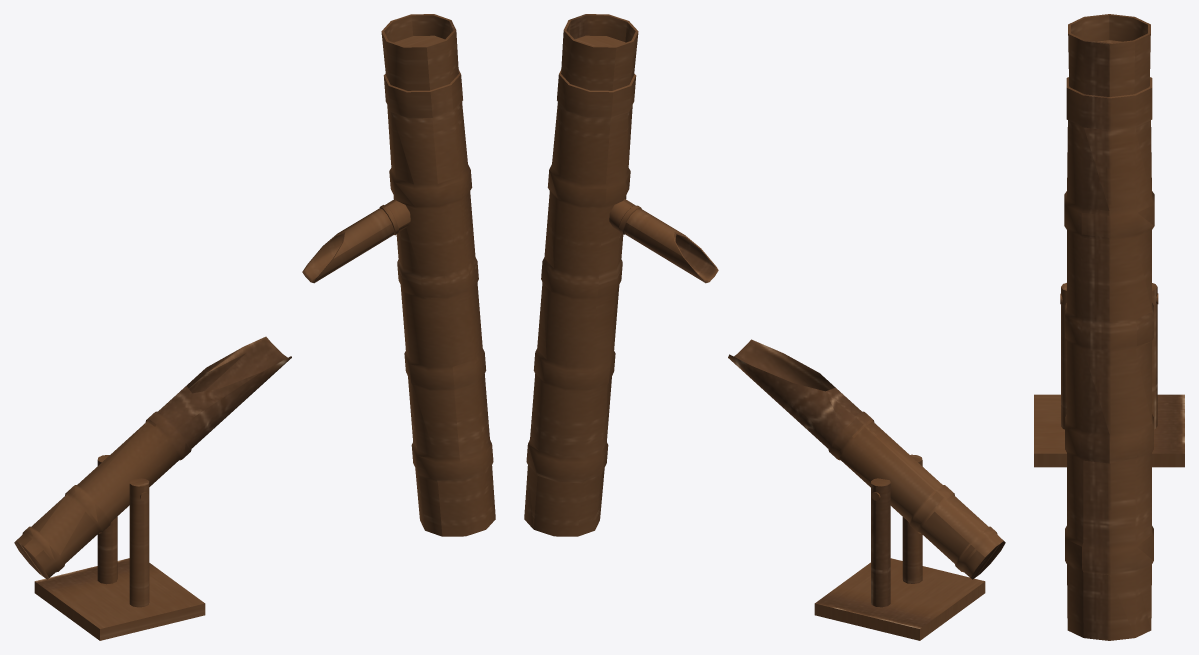
File: shishi_odoshi.glb
3 renders of one model, left to right at view 1: azimuth 30°, elevation 25°; view 2: azimuth 150°, elevation 25°; view 3: azimuth 270°, elevation 25°, orthographic. The views are drawn at different scales.
Visible parts, largest first — view 1: mesh; view 2: mesh; view 3: mesh.
Boxes of the visible parts, x1=… form: mesh: x1=14, y1=14, x2=495, y2=640; mesh: x1=524, y1=14, x2=1005, y2=640; mesh: x1=1034, y1=14, x2=1184, y2=640.
Bounding box in the file's own units: 0.7626 × 0.78 × 0.1834.
Materials: 1 (1 with a texture image).
